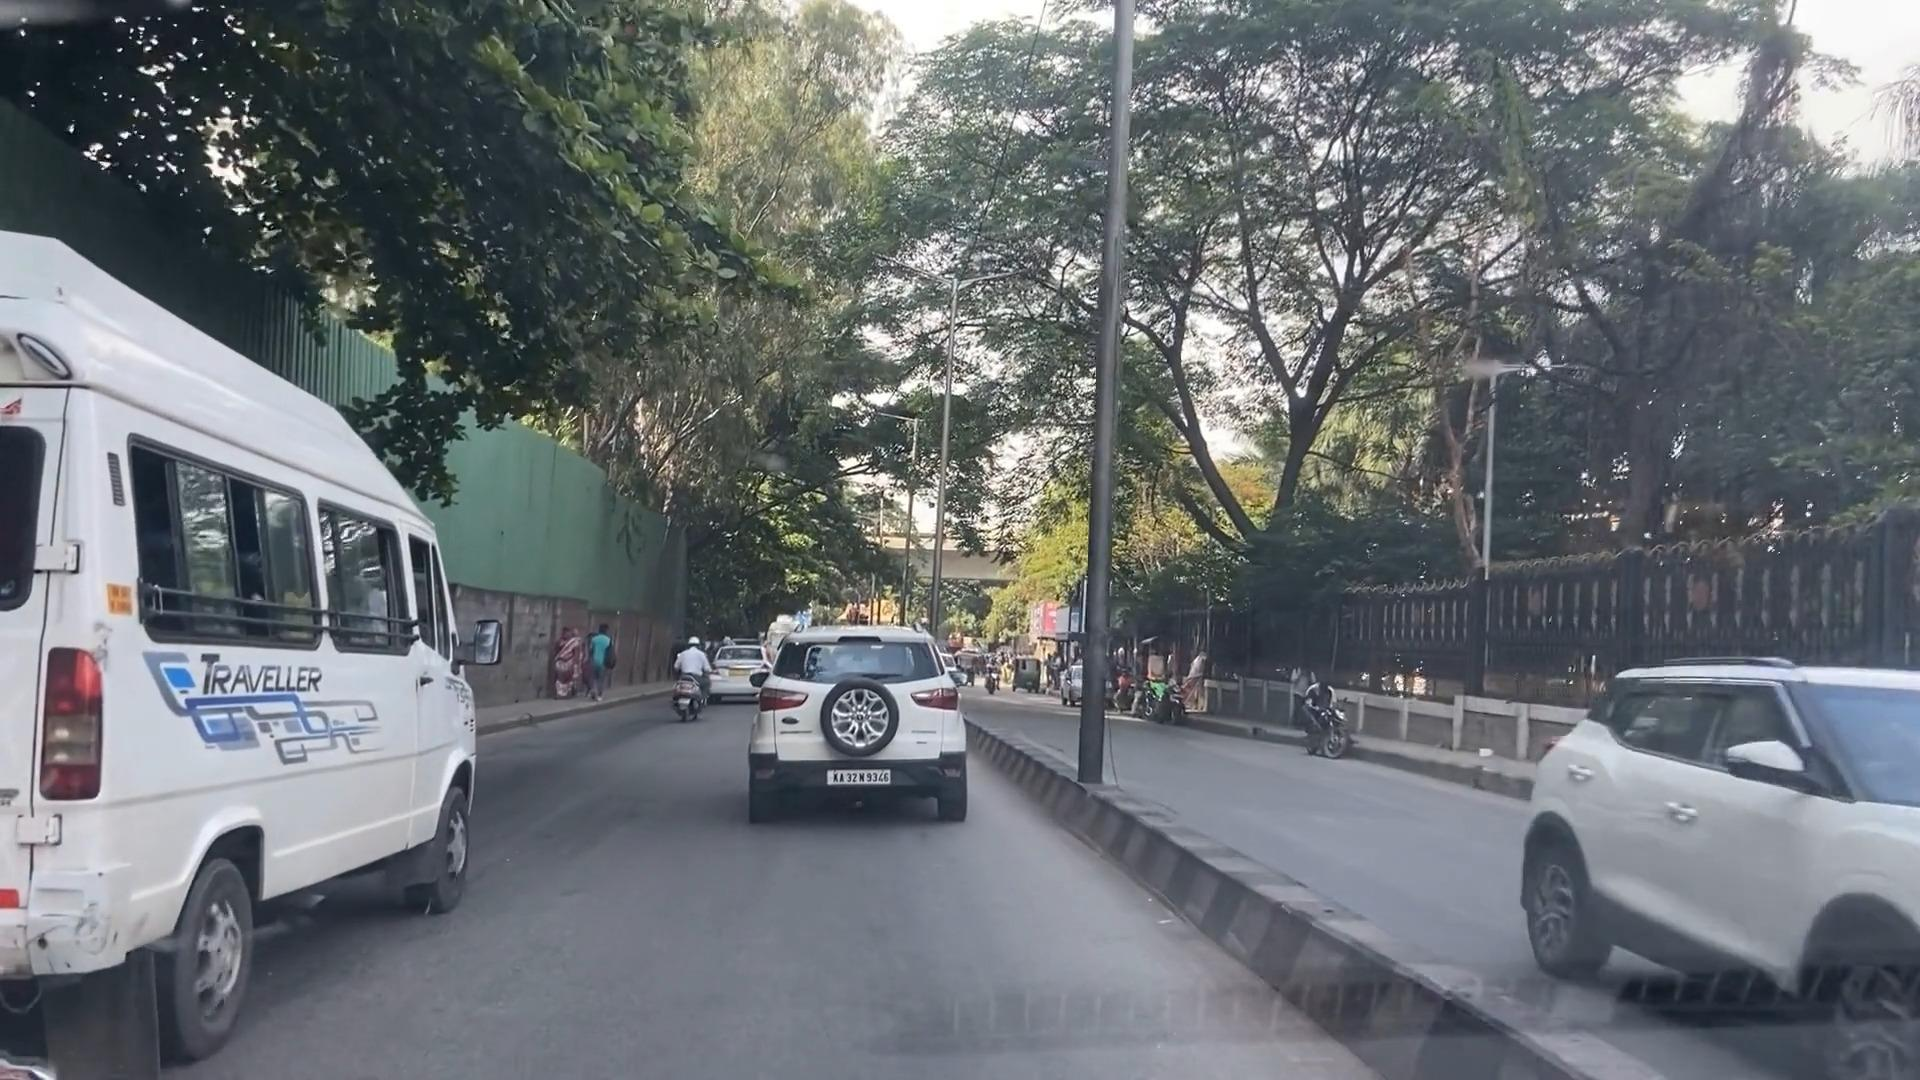HMV: (0, 228, 469, 1067)
LMV: (786, 616, 965, 843)
